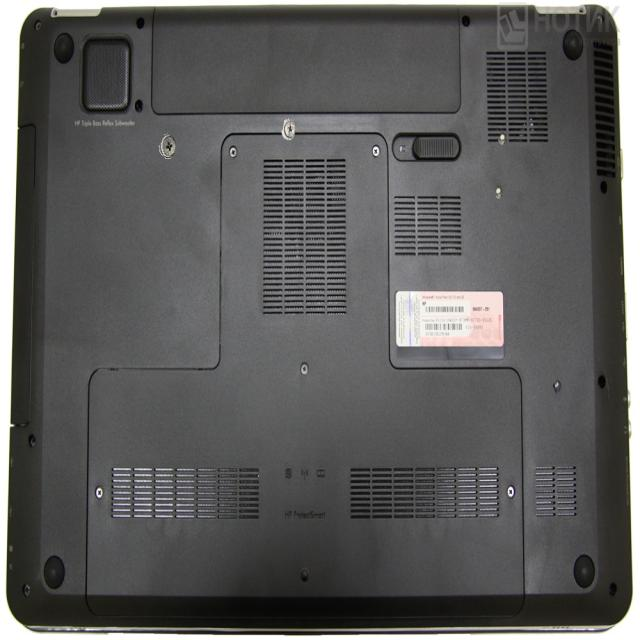lock: (159, 133, 175, 159), (281, 118, 295, 140)
missing_screw: (552, 379, 562, 395), (493, 185, 502, 199), (497, 131, 506, 145)
